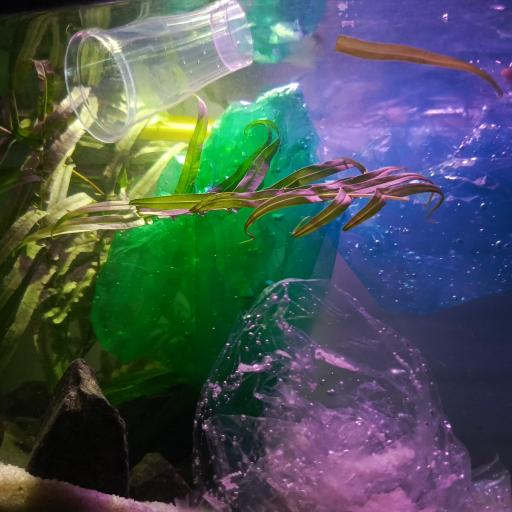plastic_bag: (93, 84, 336, 416), (195, 279, 512, 512), (278, 0, 512, 313)
plastic_cup: (67, 0, 255, 144)
